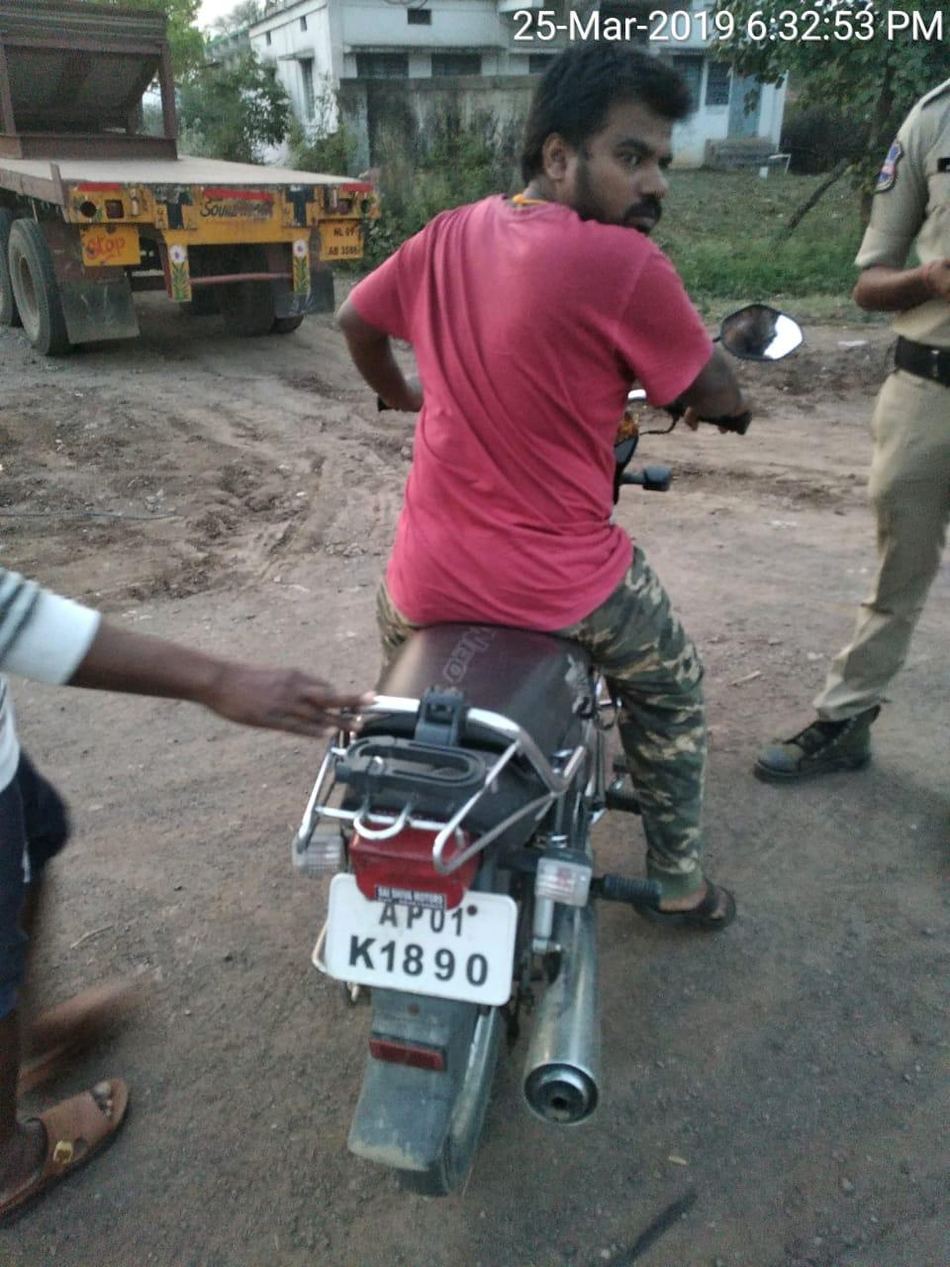plate: (307, 856, 538, 1015)
